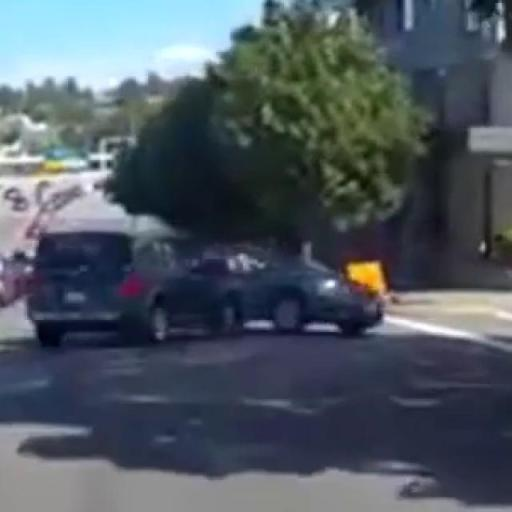小汽车撞小汽车: (26, 220, 386, 342)
